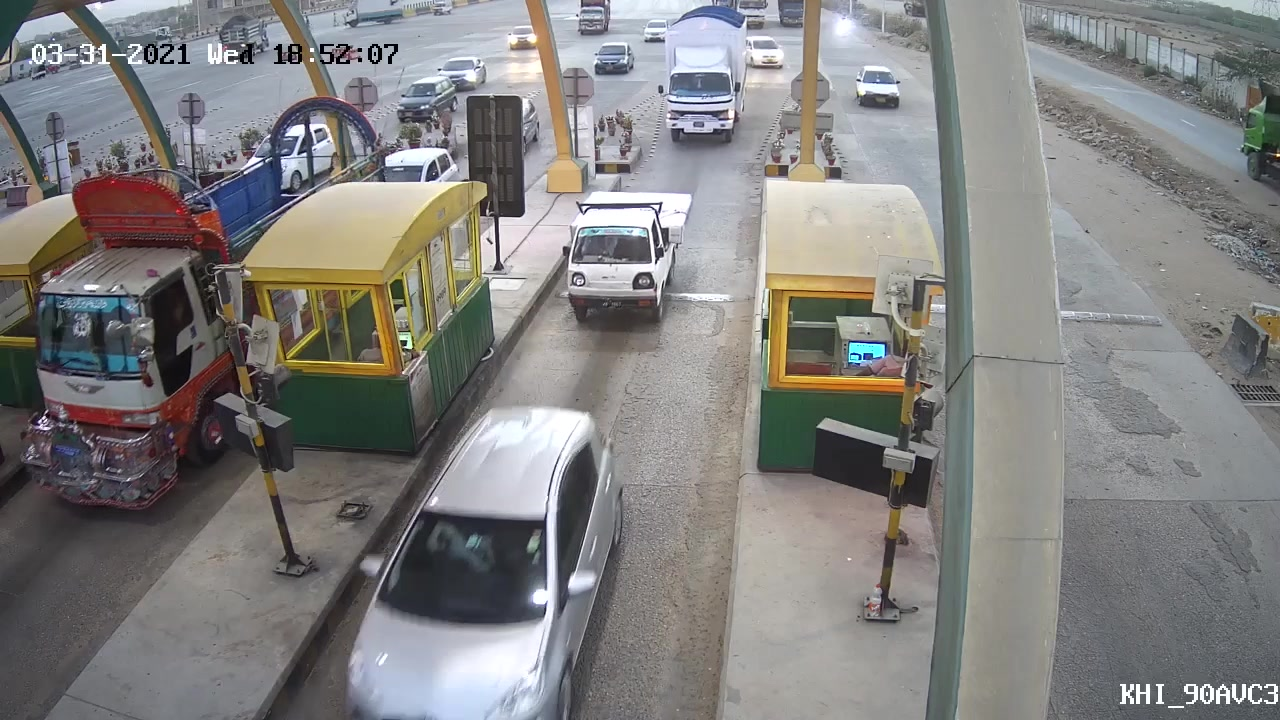F1: (562, 184, 695, 323)
